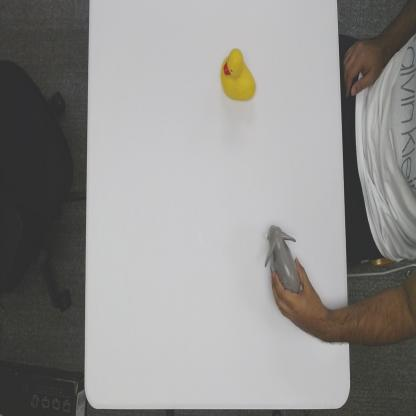Arm: (323, 304, 350, 346)
Duck: (219, 45, 257, 104)
Elephant: (263, 220, 303, 294)
Hand: (270, 260, 323, 334)
